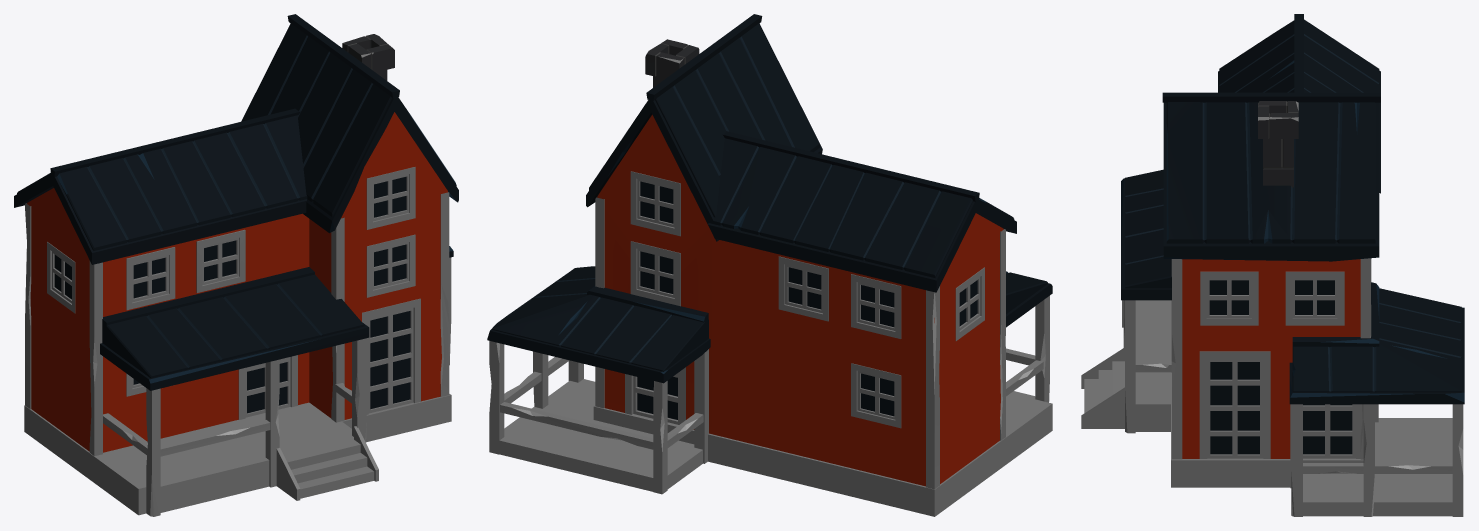
File: House_3.001.fbx
The picture shows the model from 3 angles, left to right: view 1: azimuth 30°, elevation 25°; view 2: azimuth 150°, elevation 25°; view 3: azimuth 270°, elevation 25°; orthographic projection. The views are drawn at different scales.
Parts seen in each view (by area): view 1: House_3.001; view 2: House_3.001; view 3: House_3.001.
Boxes of the visible parts, bbox=[...] form: House_3.001: bbox=[14, 14, 458, 516]; House_3.001: bbox=[487, 14, 1052, 516]; House_3.001: bbox=[1081, 14, 1464, 516].
Bounding box in the file's own units: 340 × 285 × 273.
